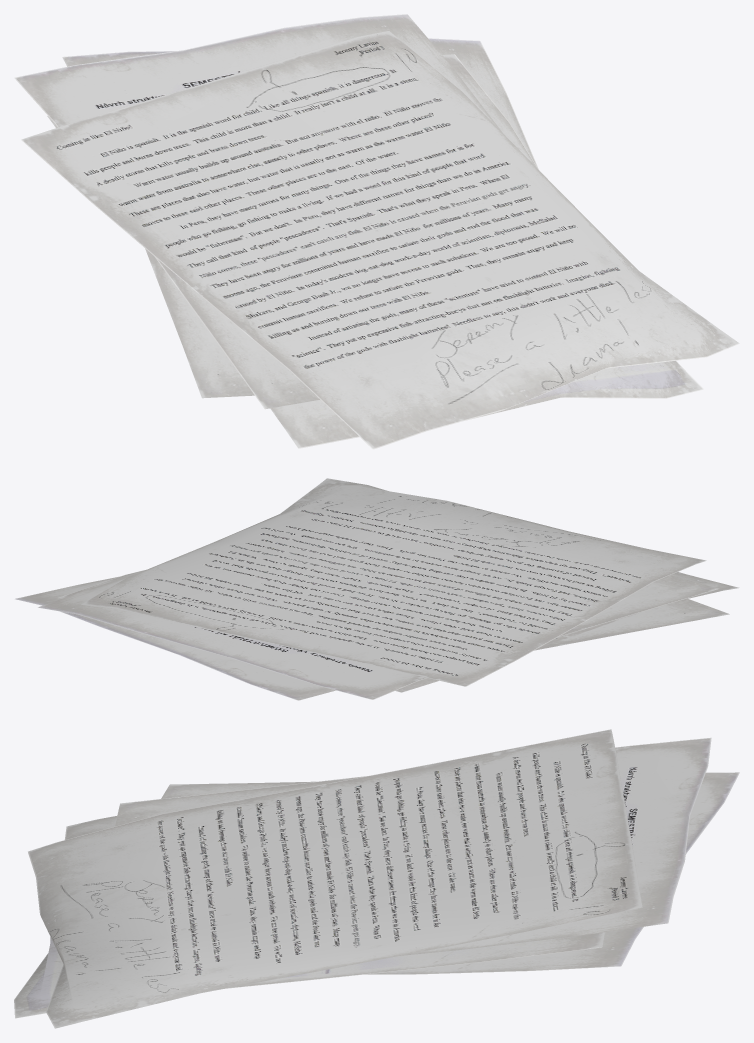
The model's file is paper_pile.FBX.
3 renders of one model, top to bottom at view 1: azimuth 30°, elevation 25°; view 2: azimuth 150°, elevation 25°; view 3: azimuth 270°, elevation 25°, orthographic. The views are drawn at different scales.
Visible parts, largest first — view 1: Papers14, Papers13, Papers15, Papers16; view 2: Papers14, Papers13, Papers16, Papers15; view 3: Papers14, Papers13, Papers15, Papers16.
Boxes of the visible parts, <box> form: Papers14: <box>21,31,739,449</box>; Papers13: <box>14,14,502,409</box>; Papers15: <box>47,54,703,448</box>; Papers16: <box>62,38,538,398</box>; Papers14: <box>81,478,706,686</box>; Papers13: <box>38,574,718,699</box>; Papers16: <box>15,576,729,700</box>; Papers15: <box>58,570,739,692</box>; Papers14: <box>28,729,642,1028</box>; Papers13: <box>115,737,711,955</box>; Papers15: <box>14,816,604,1018</box>; Papers16: <box>161,772,739,974</box>.
Bounding box in the file's own units: 279 × 67.24 × 354.
1 material, 1 textured.
